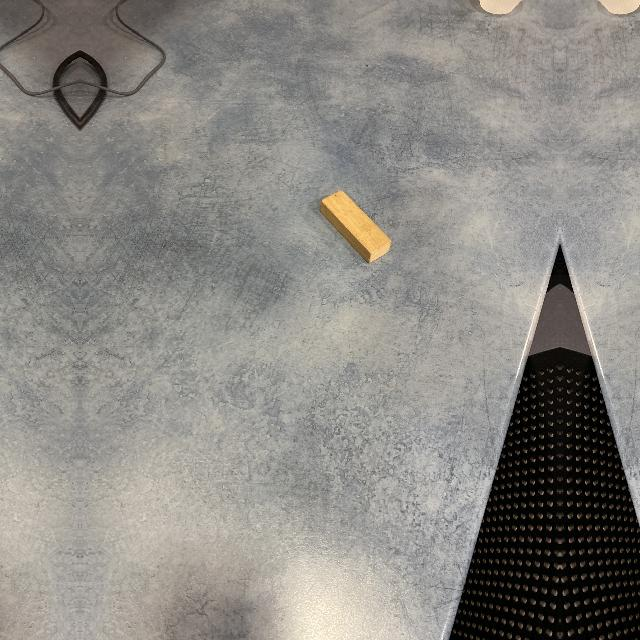jenga: (320, 190, 392, 264)
